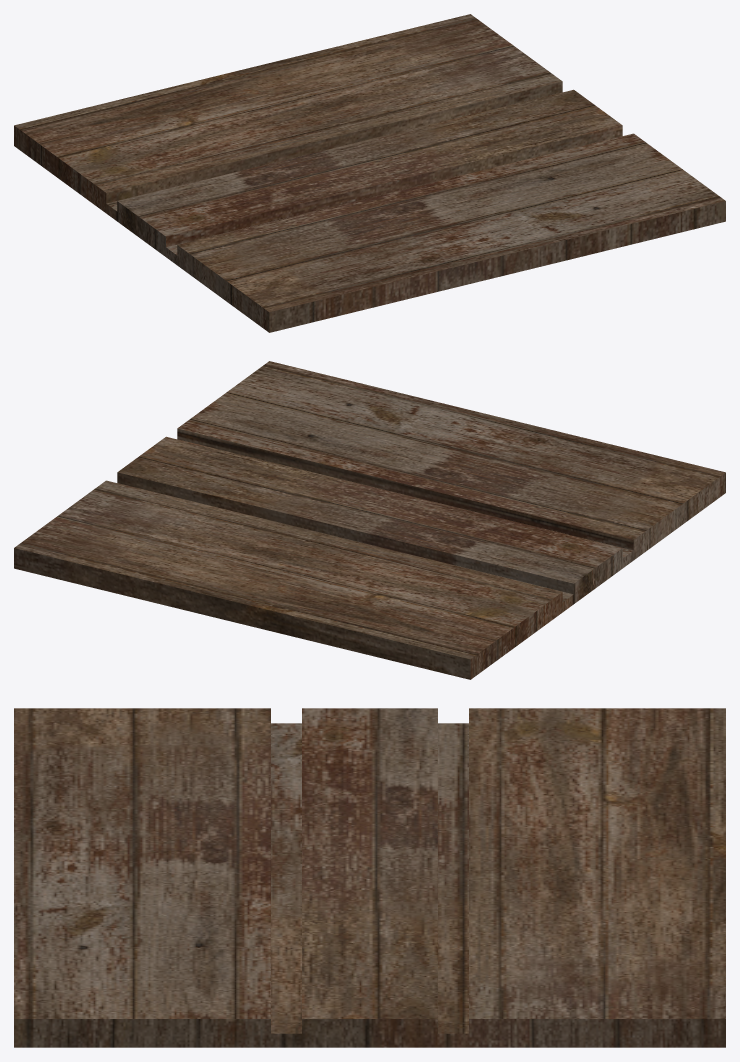
The model's file is Platform.fbx.
3 renders of one model, top to bottom at view 1: azimuth 30°, elevation 25°; view 2: azimuth 150°, elevation 25°; view 3: azimuth 270°, elevation 25°, orthographic. The views are drawn at different scales.
Visible parts, largest first — view 1: Platform; view 2: Platform; view 3: Platform.
Part boxes in pixels (left/top/right/bottom): Platform: left=14, top=14, right=725, bottom=332; Platform: left=14, top=361, right=725, bottom=679; Platform: left=14, top=708, right=725, bottom=1047.
Bounding box in the file's own units: 325 × 14 × 315.
1 material, 1 textured.
